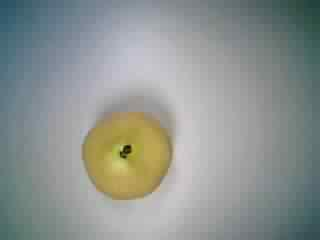pear: (71, 98, 176, 211)
